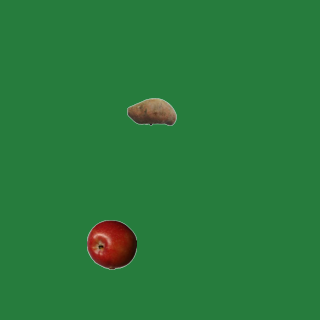Apple Braeburn: (86, 219, 136, 269)
Potato Sweet: (126, 86, 176, 136)
